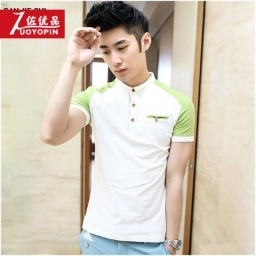face: (86, 3, 152, 82)
